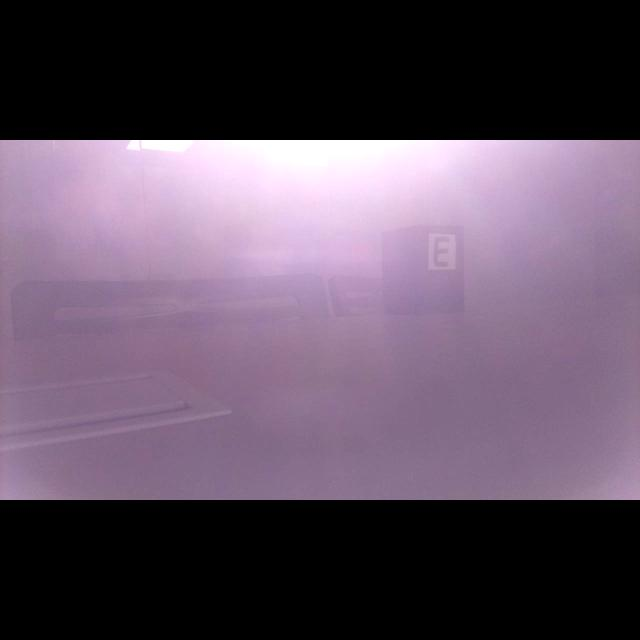E: (434, 237, 449, 267)
